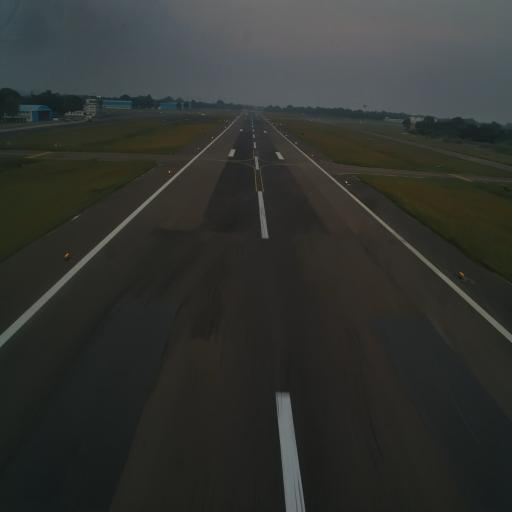on: (458, 265, 467, 278), (64, 250, 70, 260), (168, 167, 172, 176), (344, 179, 348, 186)
